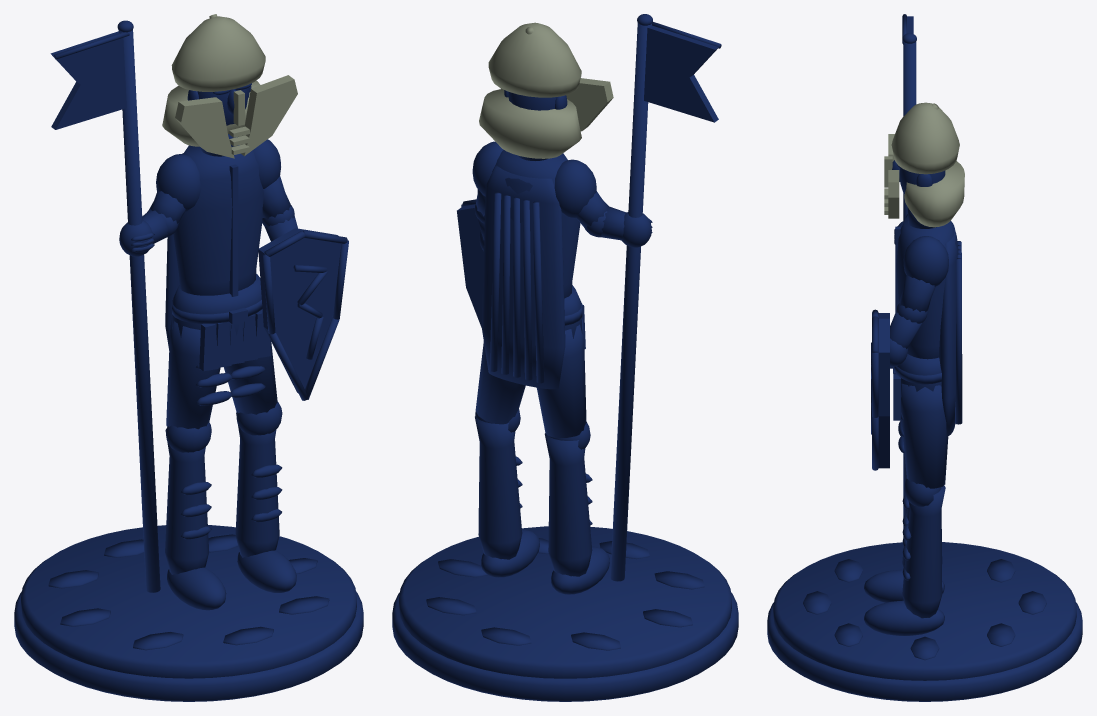
The model's file is knight-blue-level-2-helmet.fbx.
3 views of the same model, side by side, from view 1: azimuth 30°, elevation 25°; view 2: azimuth 150°, elevation 25°; view 3: azimuth 270°, elevation 25° (orthographic). The views are drawn at different scales.
Parts seen in each view (by area): view 1: Knight_Level_2_Helmet_Sculpt; view 2: Knight_Level_2_Helmet_Sculpt; view 3: Knight_Level_2_Helmet_Sculpt.
Part boxes in pixels (x1=…): Knight_Level_2_Helmet_Sculpt: x1=14, y1=14, x2=363, y2=701; Knight_Level_2_Helmet_Sculpt: x1=392, y1=14, x2=738, y2=701; Knight_Level_2_Helmet_Sculpt: x1=767, y1=14, x2=1082, y2=701.
Size of the model in its own units: 0.012 by 0.024 by 0.012.
